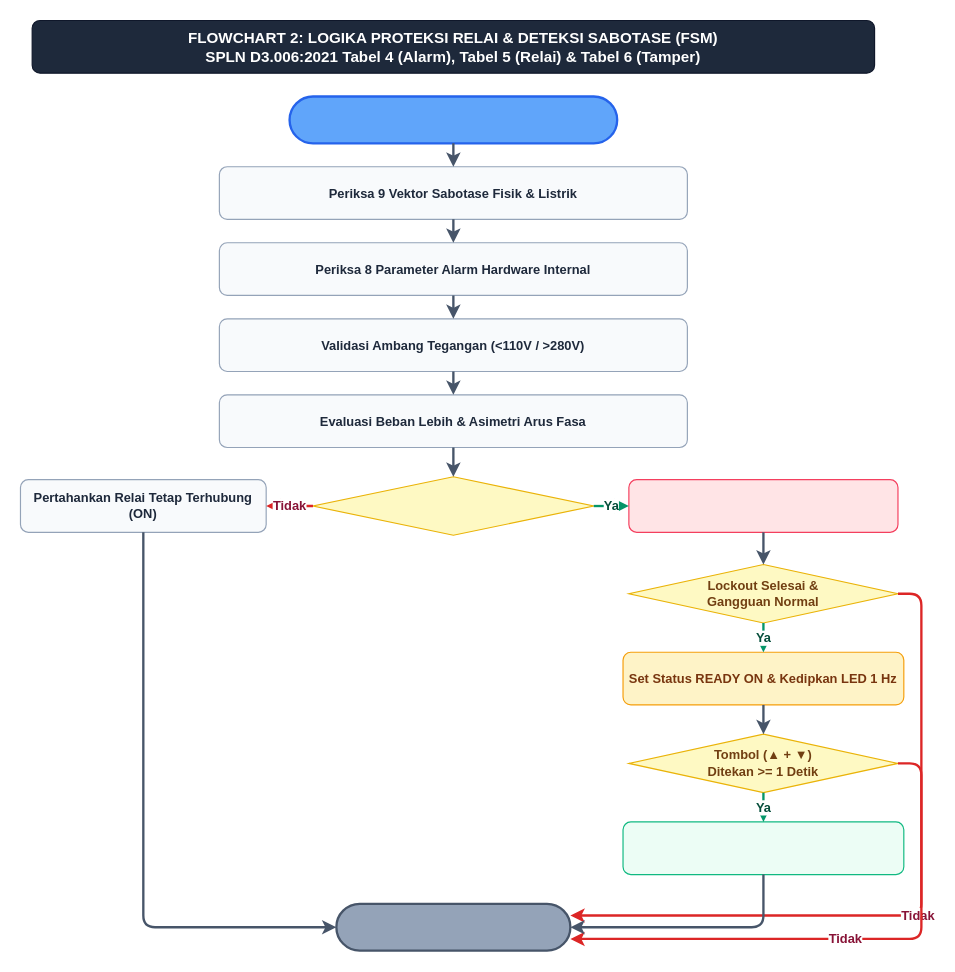
This 955x972 diagram has some shape labels left out. The box of each missing label's shape, as (x1, y1, x2, y2) in pixels:
Buka Kontak Relai & Catat Log Kejadian: (628, 479, 898, 532)
Gangguan Sabotase / Beban Lebih: (312, 476, 594, 535)
Mulai: (288, 95, 618, 144)
Selesai: (335, 902, 571, 951)
Tutup Kontak Relai & Padamkan LED Alarm: (622, 821, 904, 875)
